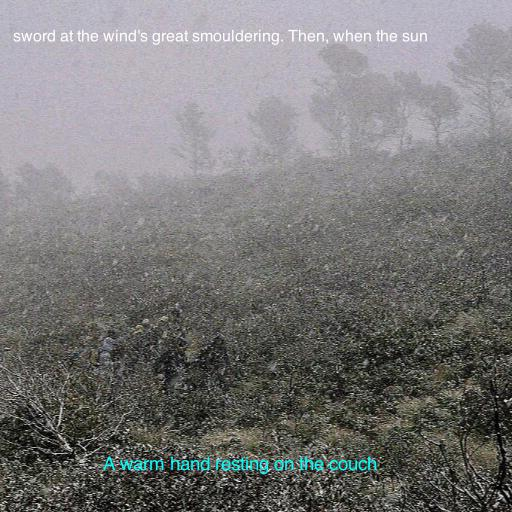Apple Chancery: (12, 29, 428, 45)
Helvetica: (103, 456, 377, 475)
